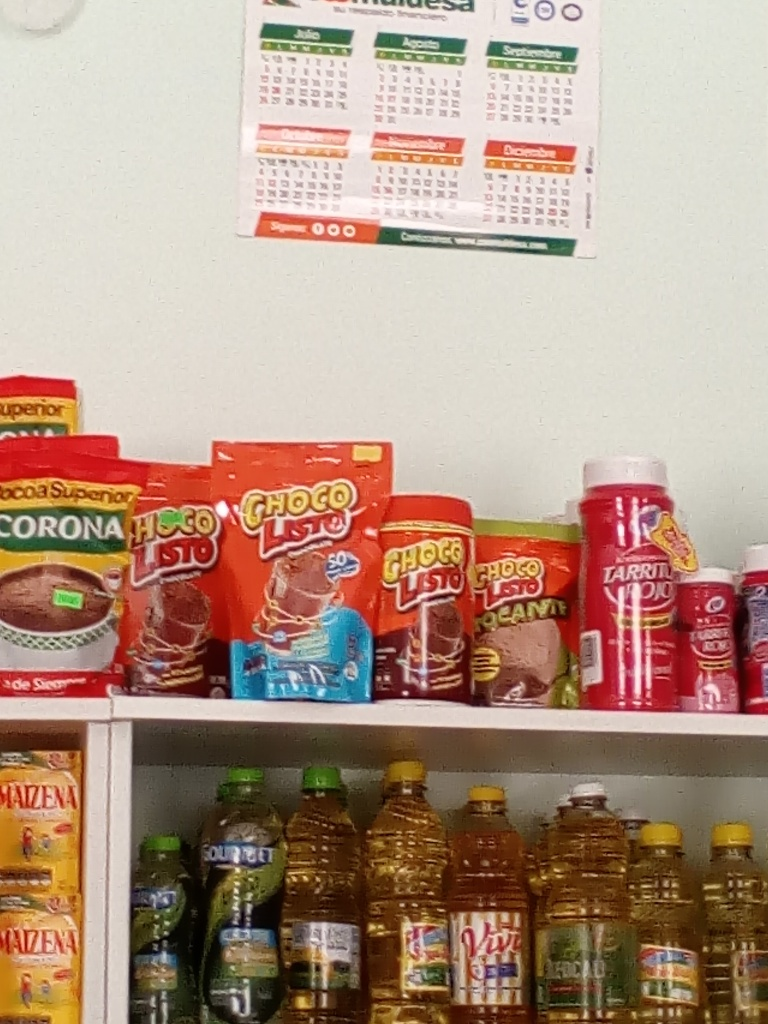COL0170102DYP10000: (470, 507, 584, 702)
COL0170103DYP10000: (106, 457, 221, 701)
COL0170103TRR30000: (376, 491, 476, 700)
COL0170104DYP20000: (221, 443, 389, 704)
